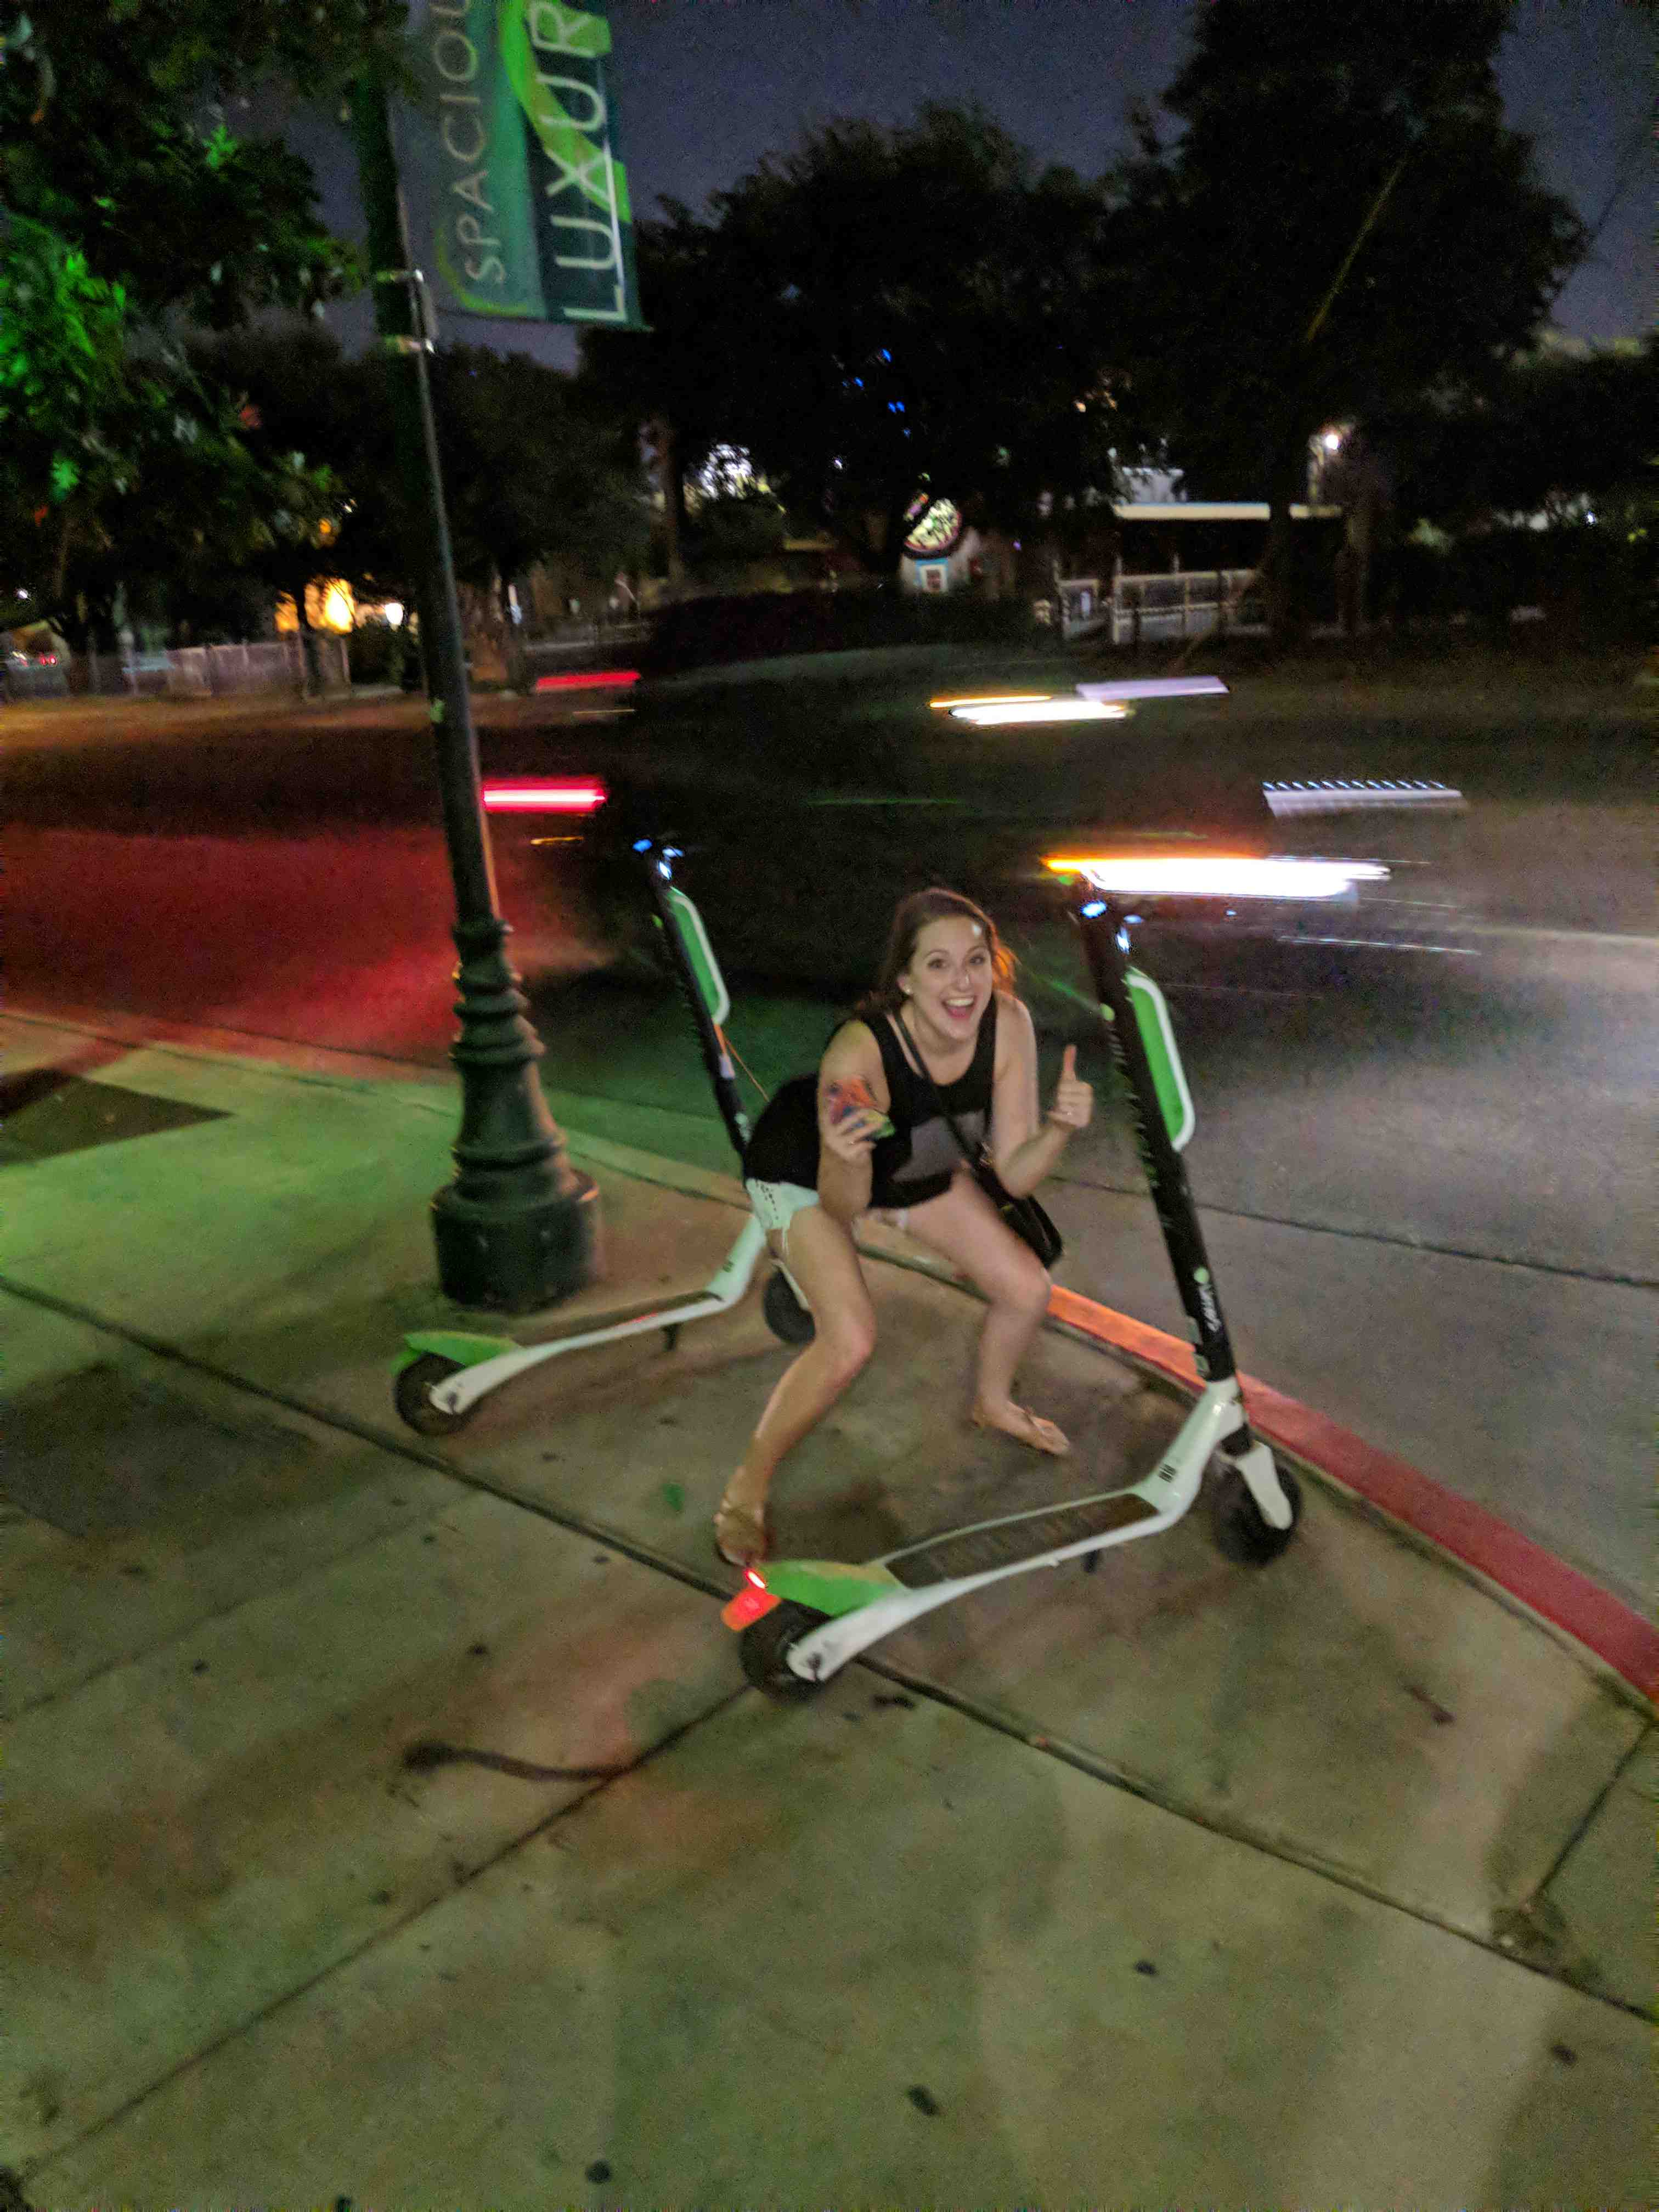scooter: (673, 852, 1394, 1766), (343, 782, 877, 1491)
